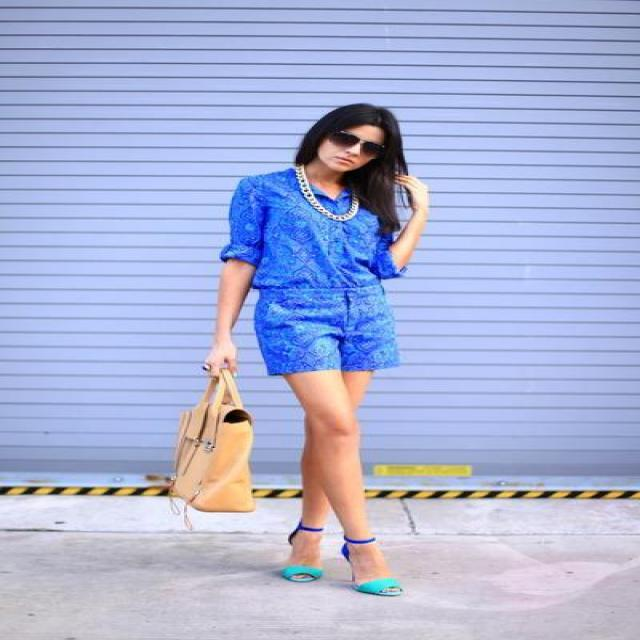bag: (173, 404, 270, 512)
dress: (219, 168, 411, 376)
shoe: (275, 566, 397, 596)
